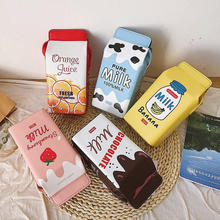carton: (121, 37, 213, 153), (90, 19, 158, 124), (40, 20, 89, 116)
